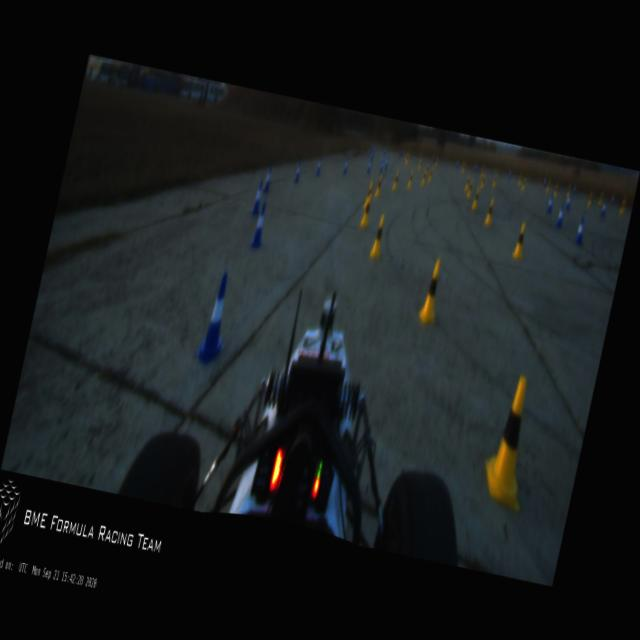blue_cone: (192, 269, 240, 369), (248, 199, 270, 249), (250, 180, 265, 214), (574, 214, 587, 244), (262, 165, 274, 192), (556, 202, 566, 228), (294, 160, 302, 182), (546, 194, 554, 213), (342, 157, 350, 173), (316, 156, 322, 175), (366, 158, 372, 174), (379, 157, 384, 172), (384, 155, 388, 170)
yellow_cone: (476, 371, 546, 513), (416, 257, 446, 326), (368, 212, 388, 260), (511, 220, 528, 260), (359, 192, 374, 228), (483, 198, 495, 226), (362, 181, 373, 209), (373, 174, 382, 198), (471, 187, 480, 209), (392, 170, 399, 191), (406, 170, 414, 188), (466, 180, 474, 198), (421, 170, 427, 186), (464, 176, 470, 190), (428, 168, 433, 182)
